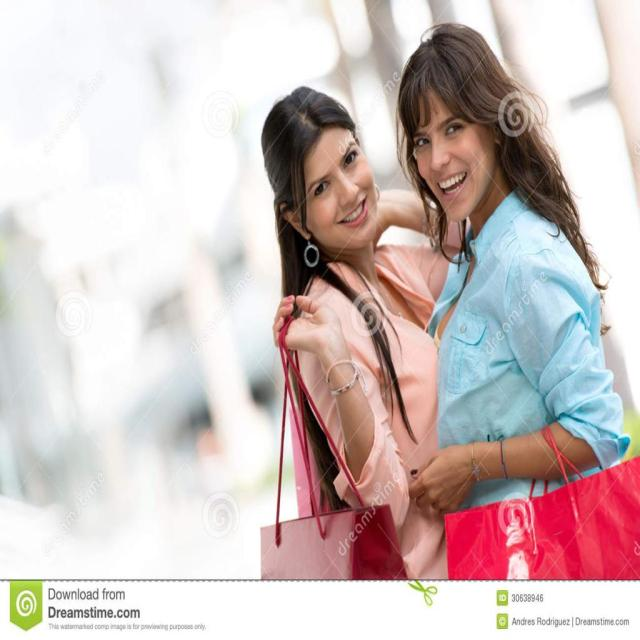Face: (286, 120, 391, 270), (403, 87, 503, 233)
